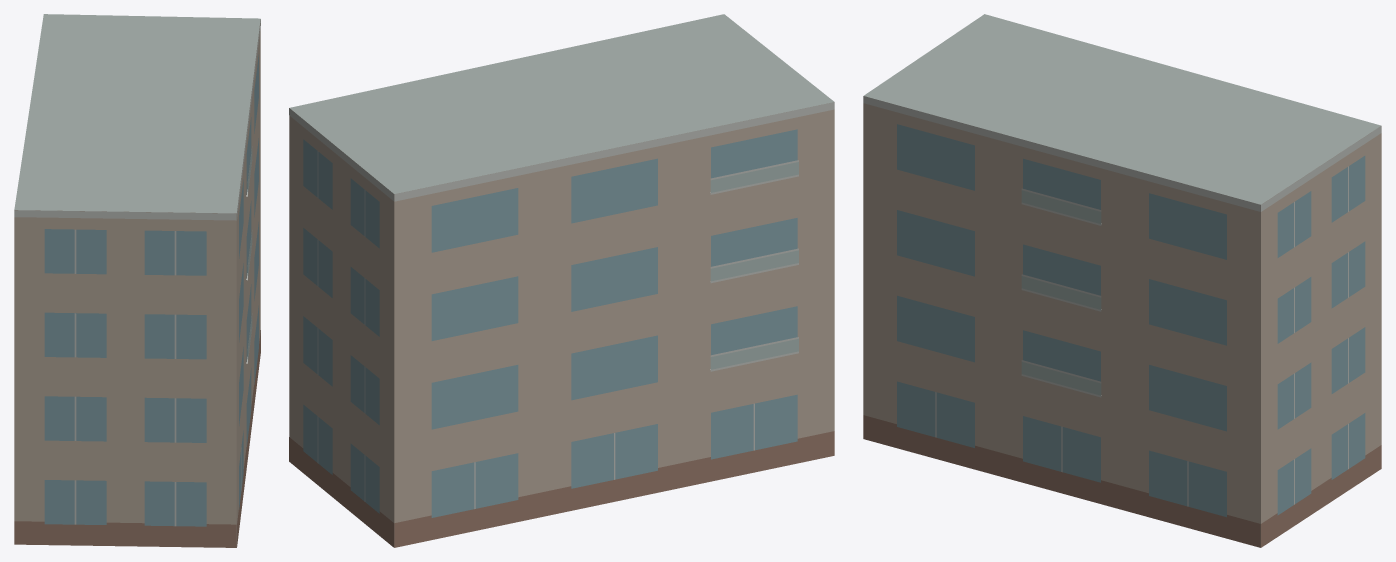
Rendered from survey-upis-32890689.glb.
The picture shows the model from 3 angles, left to right: view 1: azimuth 30°, elevation 25°; view 2: azimuth 150°, elevation 25°; view 3: azimuth 270°, elevation 25°; orthographic projection. The views are drawn at different scales.
Visible parts, largest first — view 1: survey-upis-32890689.tmp; view 2: survey-upis-32890689.tmp; view 3: survey-upis-32890689.tmp.
Boxes of the visible parts, bbox=[...] form: survey-upis-32890689.tmp: bbox=[14, 14, 260, 547]; survey-upis-32890689.tmp: bbox=[289, 14, 834, 547]; survey-upis-32890689.tmp: bbox=[863, 14, 1381, 547].
Bounding box in the file's own units: 13.72 × 11.5 × 15.75.
